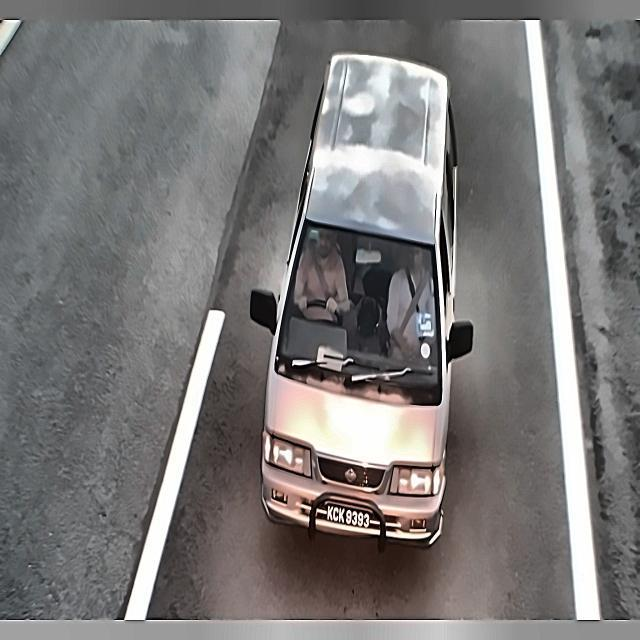car: (318, 496, 379, 539)
